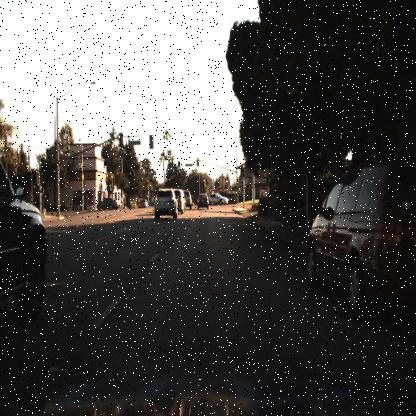car: (305, 161, 416, 319), (1, 154, 50, 322), (150, 182, 178, 218), (96, 194, 122, 213), (194, 187, 212, 210), (172, 190, 186, 216), (210, 191, 230, 208)
trafficLight-Red: (240, 162, 248, 180)
